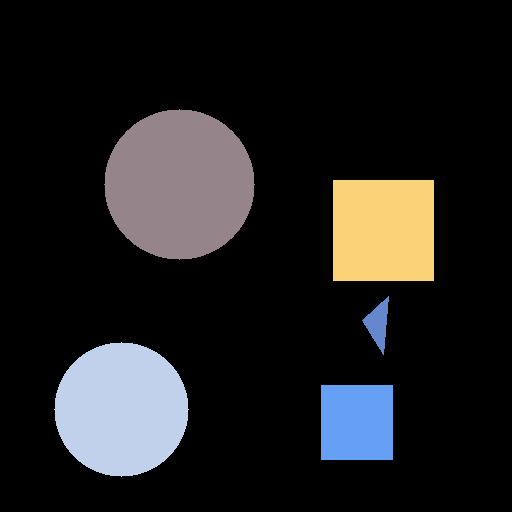circle: (104, 109, 254, 259), (54, 342, 188, 476)
square: (333, 180, 433, 280), (321, 385, 392, 459)
triangle: (362, 296, 388, 354)
